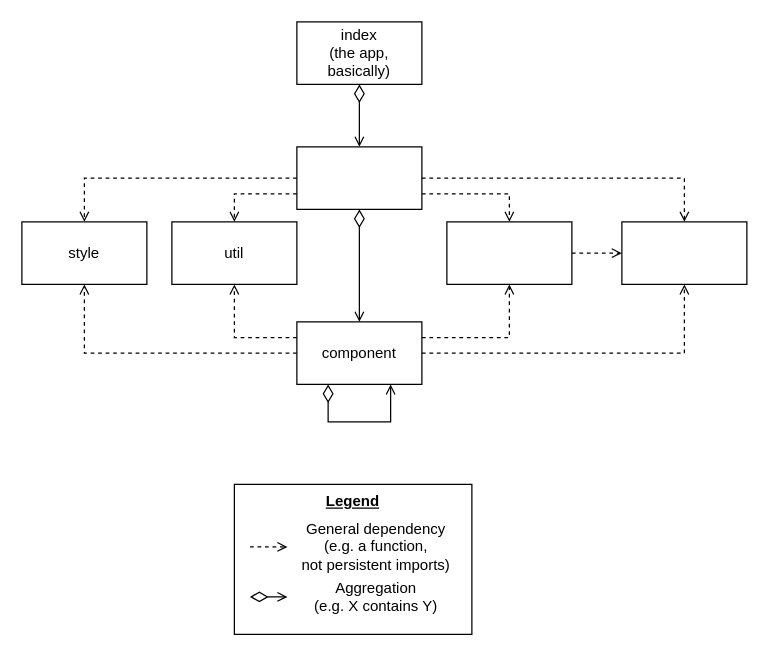
Some shapes in this 769 by 656 pixel diagram are drawn without their labels. The shapes that lost their labels are listed below. From the top down, each one's centre as x and y in pixels, then its label:
At pixel 359 177: "page".
At pixel 509 252: "context".
At pixel 684 252: "type".
